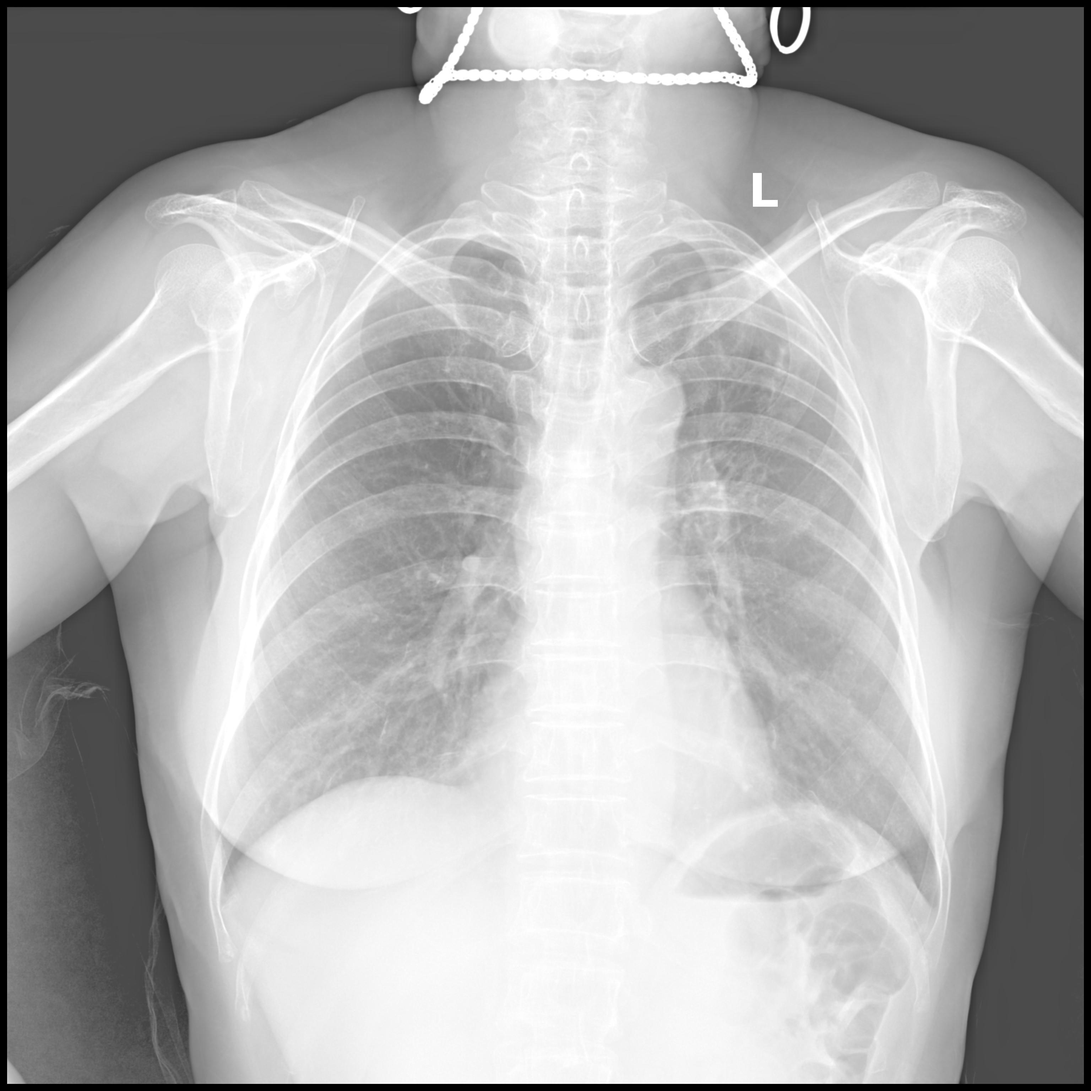Aortic enlargement: (595, 365, 688, 453)
Pulmonary fibrosis: (684, 344, 794, 509)
